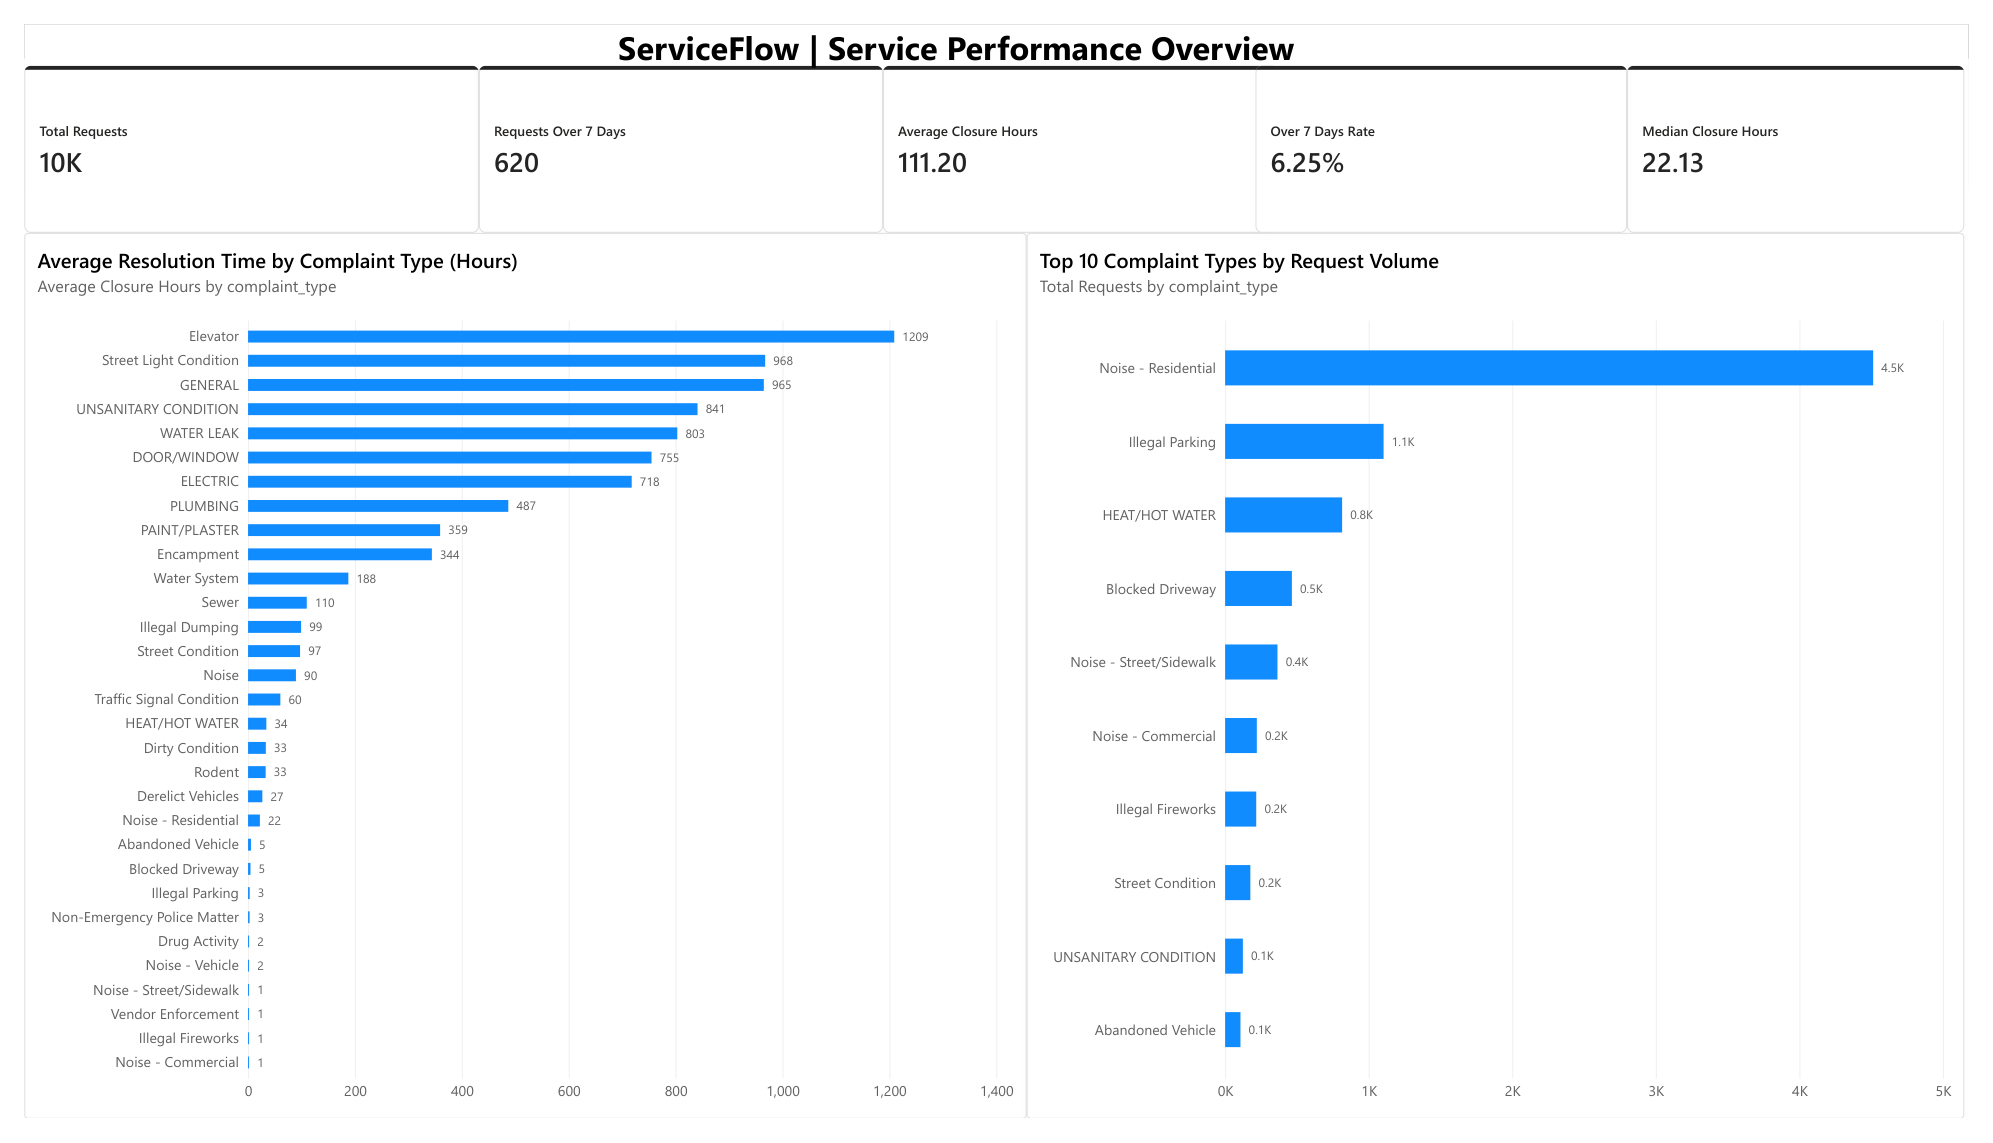

What the dashboard file says about the page in this screenshot:
{"tool":"powerbi","page":{"name":"Service Performance Overview","canvas":[1920,1080],"ordinal":0},"visuals":[{"type":"cardVisual","fields":{"Data":["ServiceFlow_Requests.Total Requests"]},"box":[0,41.2,448.7,164.7],"z":0},{"type":"cardVisual","fields":{"Data":["ServiceFlow_Requests.Average Closure Hours"]},"box":[848,41.2,391.1,164.7],"z":1000},{"type":"clusteredBarChart","title":"Average Resolution Time by Complaint Type (Hours)","fields":{"Category":["ServiceFlow_Requests.complaint_type"],"Y":["ServiceFlow_Requests.Average Closure Hours"]},"box":[0,205.8,990.1,874.8],"z":2000},{"type":"cardVisual","fields":{"Data":["ServiceFlow_Requests.Median Closure Hours"]},"box":[1582.9,41.2,333.4,164.7],"z":3000},{"type":"clusteredBarChart","title":"Top 10 Complaint Types by Request Volume","fields":{"Category":["ServiceFlow_Requests.complaint_type"],"Y":["ServiceFlow_Requests.Total Requests"]},"box":[990.1,205.8,926.2,874.8],"z":4000},{"type":"cardVisual","fields":{"Data":["ServiceFlow_Requests.Requests Over 7 Days"]},"box":[448.7,41.2,399.3,164.7],"z":5000},{"type":"cardVisual","fields":{"Data":["ServiceFlow_Requests.Over 7 Days Rate"]},"box":[1216.5,41.2,366.4,164.7],"z":6000},{"type":"textbox","box":[160.5,0,1519,82.3],"z":7000}]}

Visuals, with their boxes in screenshot pixels (x1, y1, x2, y2), scaled from the page's 1920x1080 canvas onto the 1993x1143 screenshot:
cardVisual - ServiceFlow_Requests.Total Requests: x1=0, y1=44, x2=466, y2=218
cardVisual - ServiceFlow_Requests.Average Closure Hours: x1=880, y1=44, x2=1286, y2=218
"Average Resolution Time by Complaint Type (Hours)" clusteredBarChart: x1=0, y1=218, x2=1028, y2=1142
cardVisual - ServiceFlow_Requests.Median Closure Hours: x1=1643, y1=44, x2=1989, y2=218
"Top 10 Complaint Types by Request Volume" clusteredBarChart: x1=1028, y1=218, x2=1989, y2=1142
cardVisual - ServiceFlow_Requests.Requests Over 7 Days: x1=466, y1=44, x2=880, y2=218
cardVisual - ServiceFlow_Requests.Over 7 Days Rate: x1=1263, y1=44, x2=1643, y2=218
textbox: x1=167, y1=0, x2=1743, y2=87
